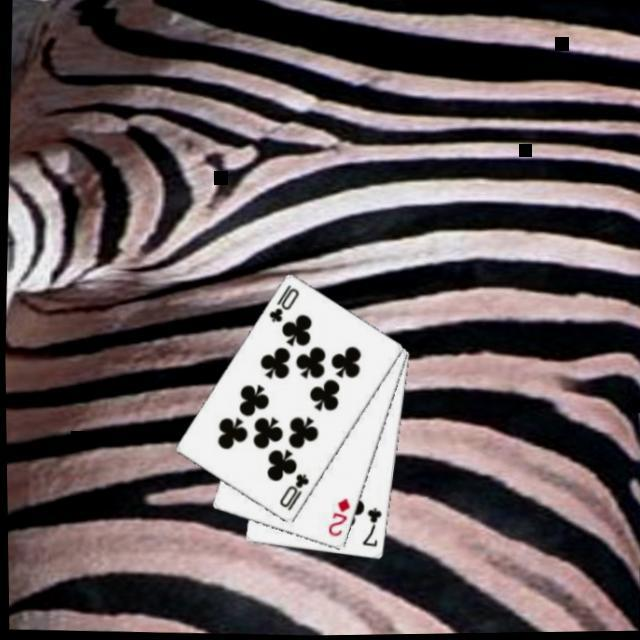10C: (264, 281, 303, 326), (276, 470, 312, 514)
2D: (323, 494, 352, 540)
7C: (356, 504, 384, 550)
